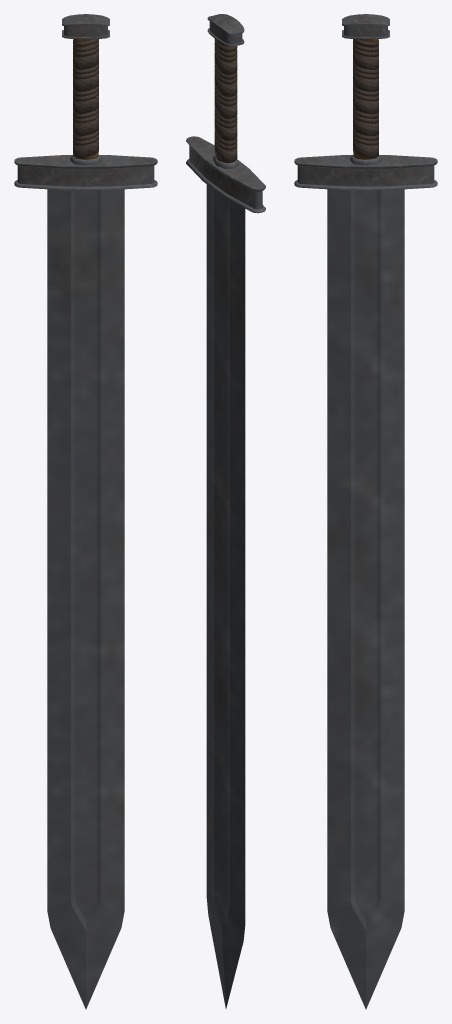
File: sword.obj
3 renders of one model, left to right at view 1: azimuth 90°, elevation 25°; view 2: azimuth 210°, elevation 25°; view 3: azimuth 270°, elevation 25°, orthographic.
Parts seen in each view (by area): view 1: Viking_Sword_Cube.001; view 2: Viking_Sword_Cube.001; view 3: Viking_Sword_Cube.001.
Part boxes in pixels (x1=…): Viking_Sword_Cube.001: x1=14, y1=14, x2=157, y2=1009; Viking_Sword_Cube.001: x1=186, y1=14, x2=265, y2=1008; Viking_Sword_Cube.001: x1=294, y1=14, x2=437, y2=1009.
Bounding box in the file's own units: 0.9941 × 38.07 × 4.99.
